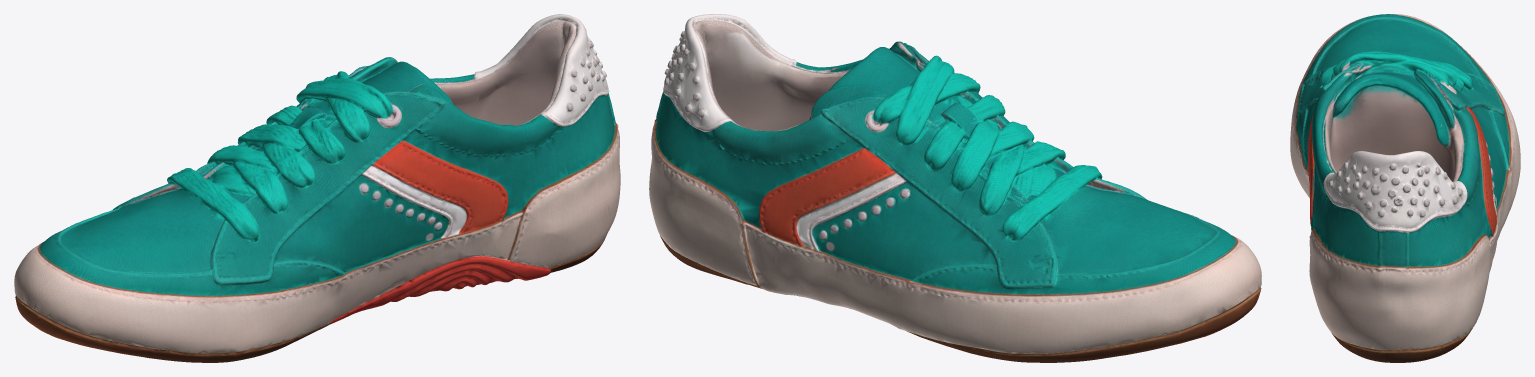
The picture shows the model from 3 angles, left to right: view 1: azimuth 30°, elevation 25°; view 2: azimuth 150°, elevation 25°; view 3: azimuth 270°, elevation 25°; orthographic projection. The views are drawn at different scales.
Visible parts, largest first — view 1: model; view 2: model; view 3: model.
Part boxes in pixels (<box>): model: <box>14,14,620,362</box>; model: <box>649,14,1261,362</box>; model: <box>1290,14,1520,362</box>.
Bounding box in the file's own units: 1.9 × 0.6753 × 0.6875.
1 material, 1 textured.
